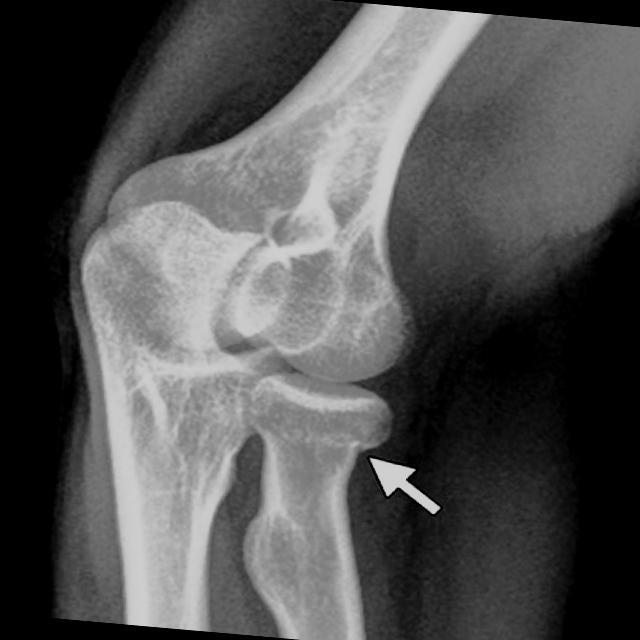Impact Fracture: (331, 428, 368, 470)
